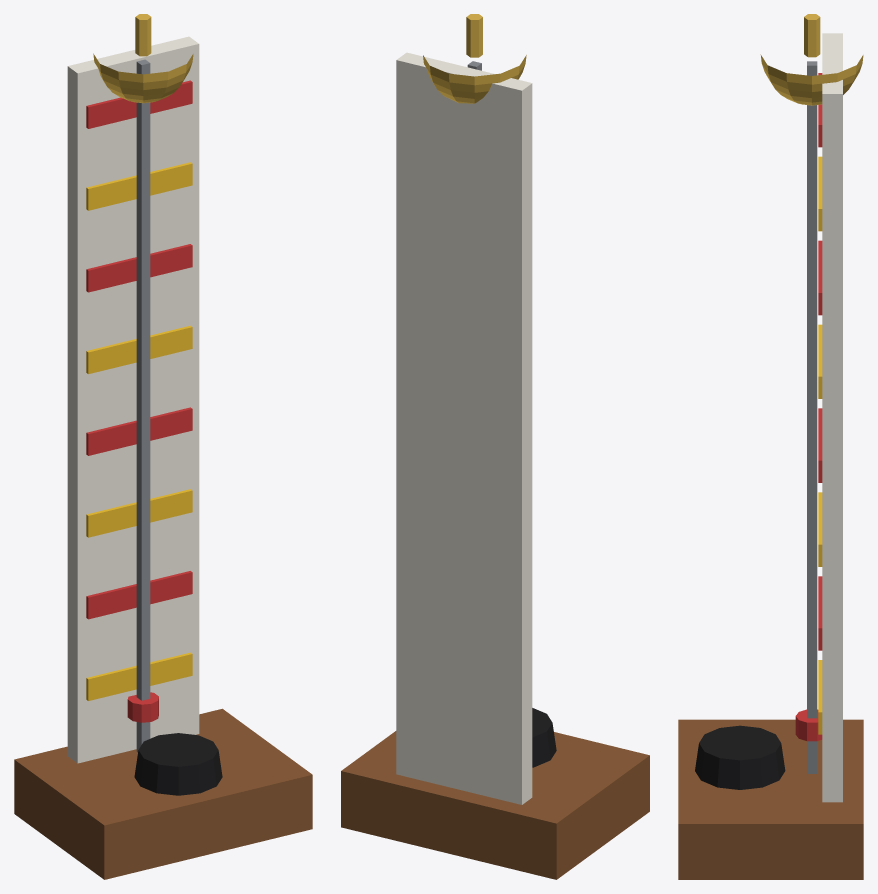
File: strength_tester.glb
3 renders of one model, left to right at view 1: azimuth 30°, elevation 25°; view 2: azimuth 150°, elevation 25°; view 3: azimuth 270°, elevation 25°, orthographic. The views are drawn at different scales.
Visible parts, largest first — view 1: board_fair_white, base_fair_deck, rail_fair_steel, scale_fair_yellow (×4), scale_fair_red, pad_bumper_rubber, bell_fair_gold, puck_fair_red; view 2: board_fair_white, base_fair_deck, bell_fair_gold, pad_bumper_rubber; view 3: base_fair_deck, board_fair_white, rail_fair_steel, pad_bumper_rubber, bell_fair_gold, scale_fair_red, puck_fair_red.
Part boxes in pixels (<box>): board_fair_white: <box>67,36,199,763</box>; base_fair_deck: <box>14,708,312,879</box>; rail_fair_steel: <box>136,59,150,752</box>; scale_fair_yellow (×4): <box>86,162,192,700</box>; scale_fair_red: <box>86,80,192,619</box>; pad_bumper_rubber: <box>134,733,222,795</box>; bell_fair_gold: <box>93,14,193,103</box>; puck_fair_red: <box>127,692,158,722</box>; board_fair_white: <box>396,52,532,804</box>; base_fair_deck: <box>341,731,649,879</box>; bell_fair_gold: <box>423,14,526,103</box>; pad_bumper_rubber: <box>532,708,556,767</box>; base_fair_deck: <box>678,719,863,879</box>; board_fair_white: <box>822,33,842,802</box>; rail_fair_steel: <box>807,61,817,773</box>; pad_bumper_rubber: <box>695,725,785,789</box>; bell_fair_gold: <box>760,14,863,105</box>; scale_fair_red: <box>818,73,822,650</box>; puck_fair_red: <box>795,709,822,741</box>.
Bounding box in the file's own units: 1.2 × 4.35 × 0.9.
